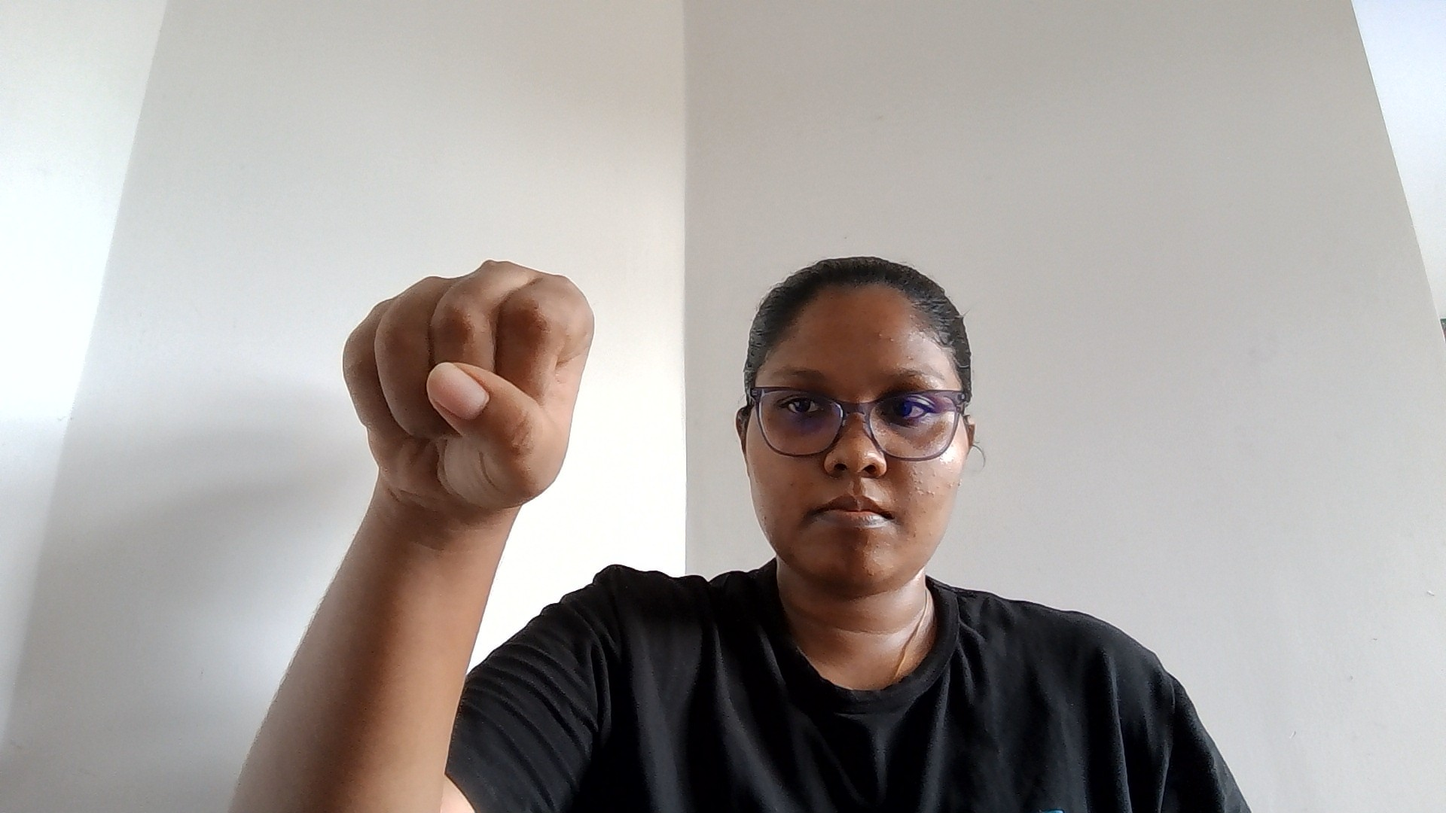Yes: (250, 190, 693, 633)
